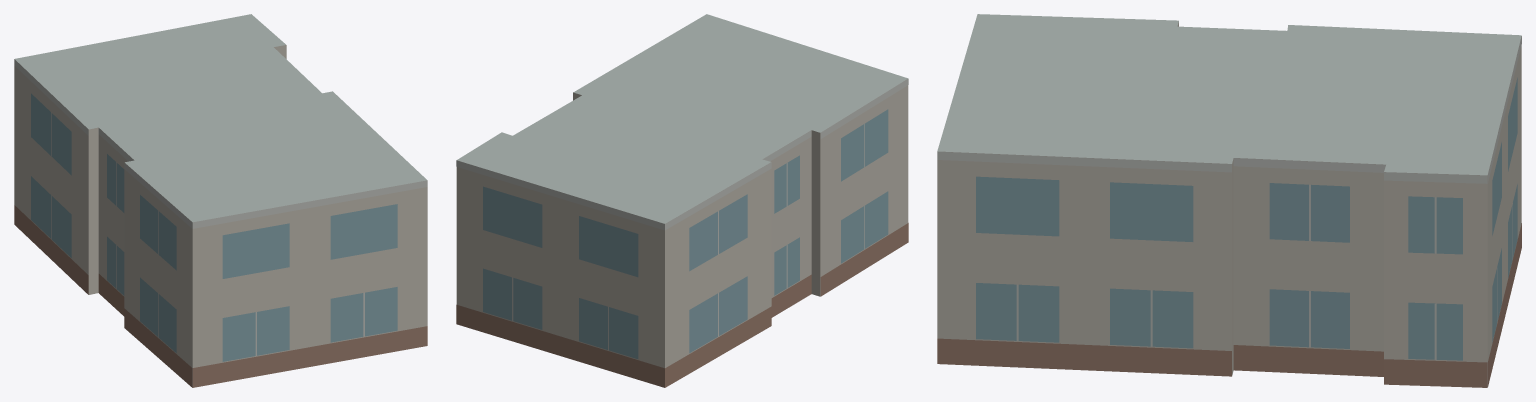
Rendered from survey-upis-32941940.glb.
The picture shows the model from 3 angles, left to right: view 1: azimuth 30°, elevation 25°; view 2: azimuth 150°, elevation 25°; view 3: azimuth 270°, elevation 25°; orthographic projection. The views are drawn at different scales.
Parts seen in each view (by area): view 1: survey-upis-32941940.tmp; view 2: survey-upis-32941940.tmp; view 3: survey-upis-32941940.tmp.
Part boxes in pixels (bbox=[...]): survey-upis-32941940.tmp: bbox=[14, 14, 427, 387]; survey-upis-32941940.tmp: bbox=[456, 14, 908, 387]; survey-upis-32941940.tmp: bbox=[937, 14, 1521, 387].
Bounding box in the file's own units: 9.94 × 6.1 × 15.22.
